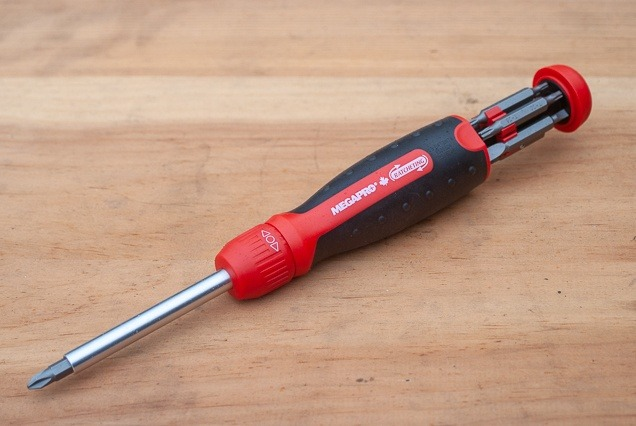screwdriver: (19, 56, 591, 395)
